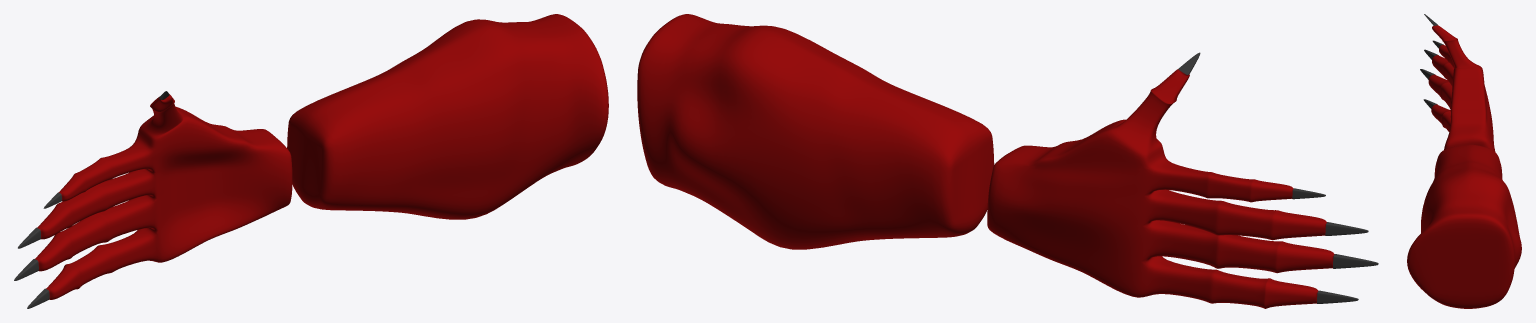
The model's file is Brazo.fbx.
The picture shows the model from 3 angles, left to right: view 1: azimuth 30°, elevation 25°; view 2: azimuth 150°, elevation 25°; view 3: azimuth 270°, elevation 25°; orthographic projection. The views are drawn at different scales.
Parts seen in each view (by area): view 1: Antebrazo_Der; view 2: Antebrazo_Der; view 3: Antebrazo_Der.
Part boxes in pixels (x1,y1,x2,y2): Antebrazo_Der: (14, 14, 608, 308); Antebrazo_Der: (637, 14, 1378, 308); Antebrazo_Der: (1407, 14, 1521, 308).
Bounding box in the file's own units: 1875 × 666 × 423.
